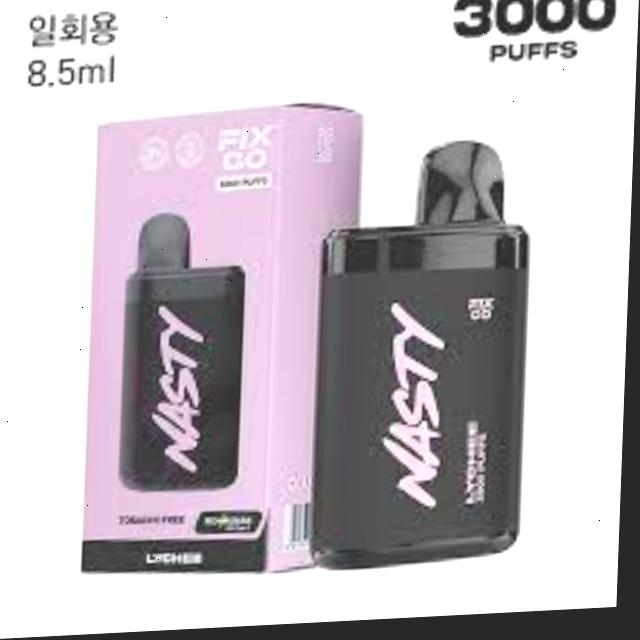vape: (315, 143, 541, 579), (124, 213, 257, 501)
